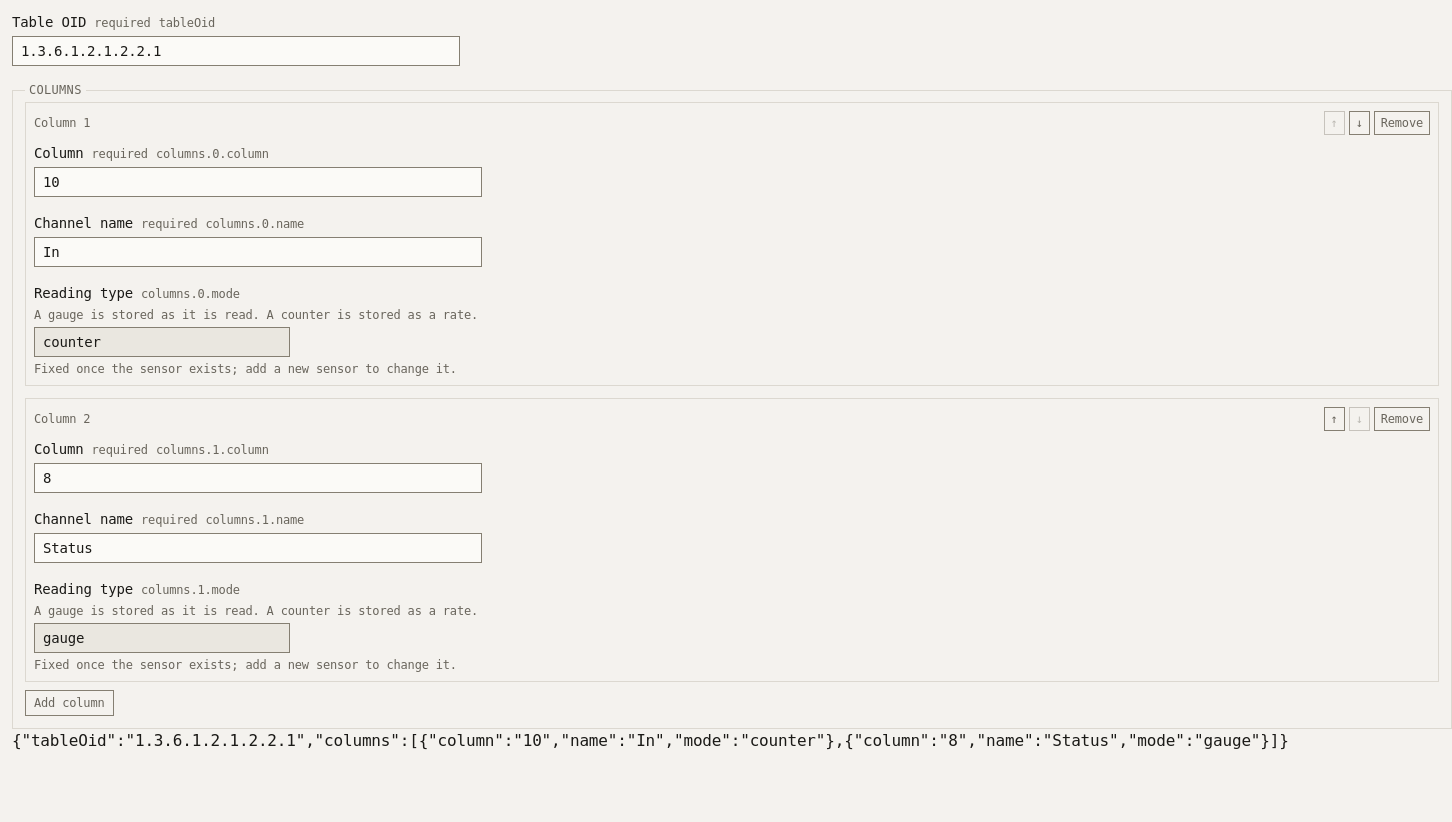
a fixed field in a table column (snmp.table) › opens a column whose key is edited to one the sensor does not have
Replace the text in the field labelled "Column" below "columns.0.column" with "16" at (258, 182), box [34,167,482,197]
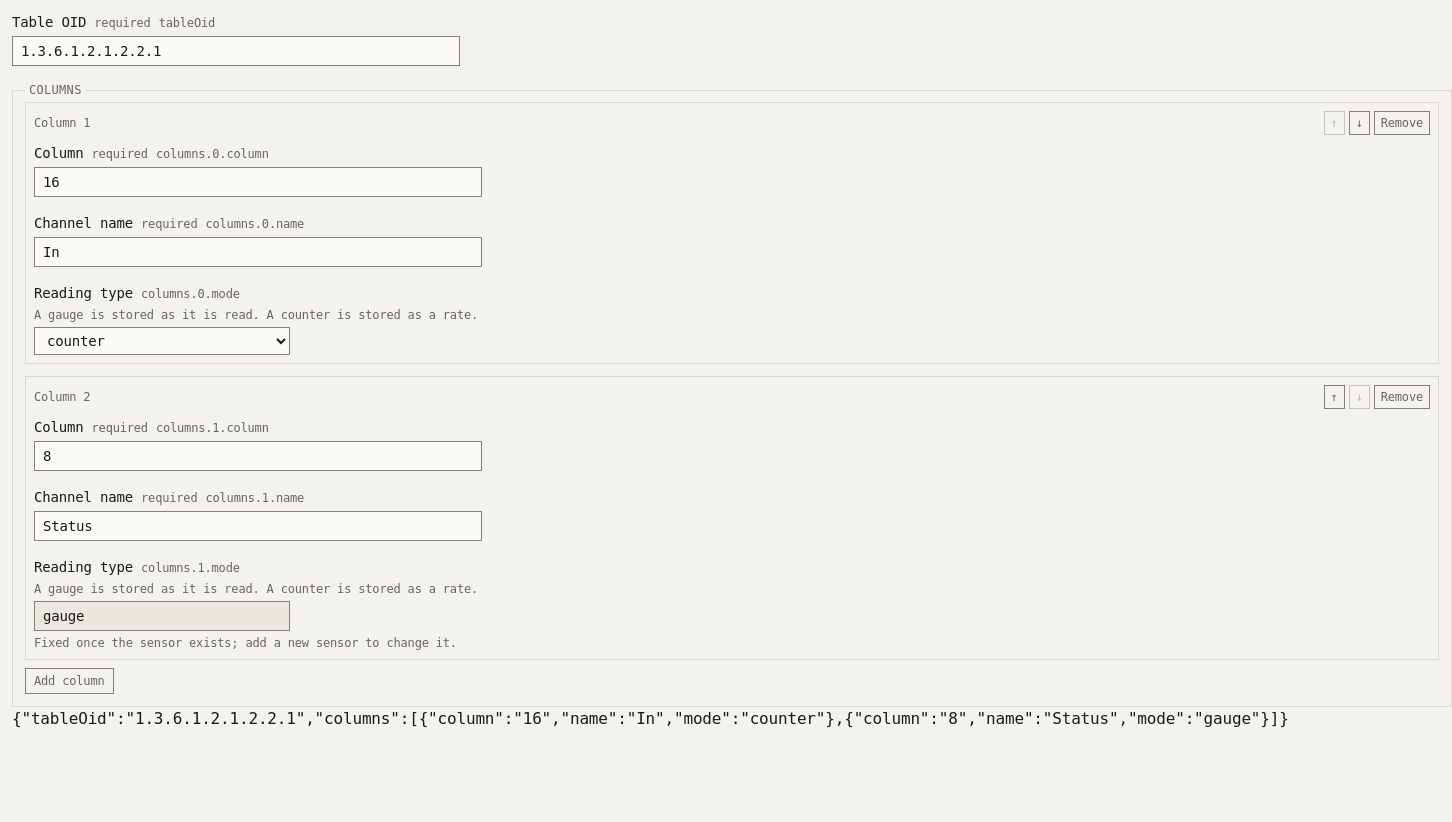
Now the dropdown labelled "Reading type" is shown, box [34,327,290,355]
